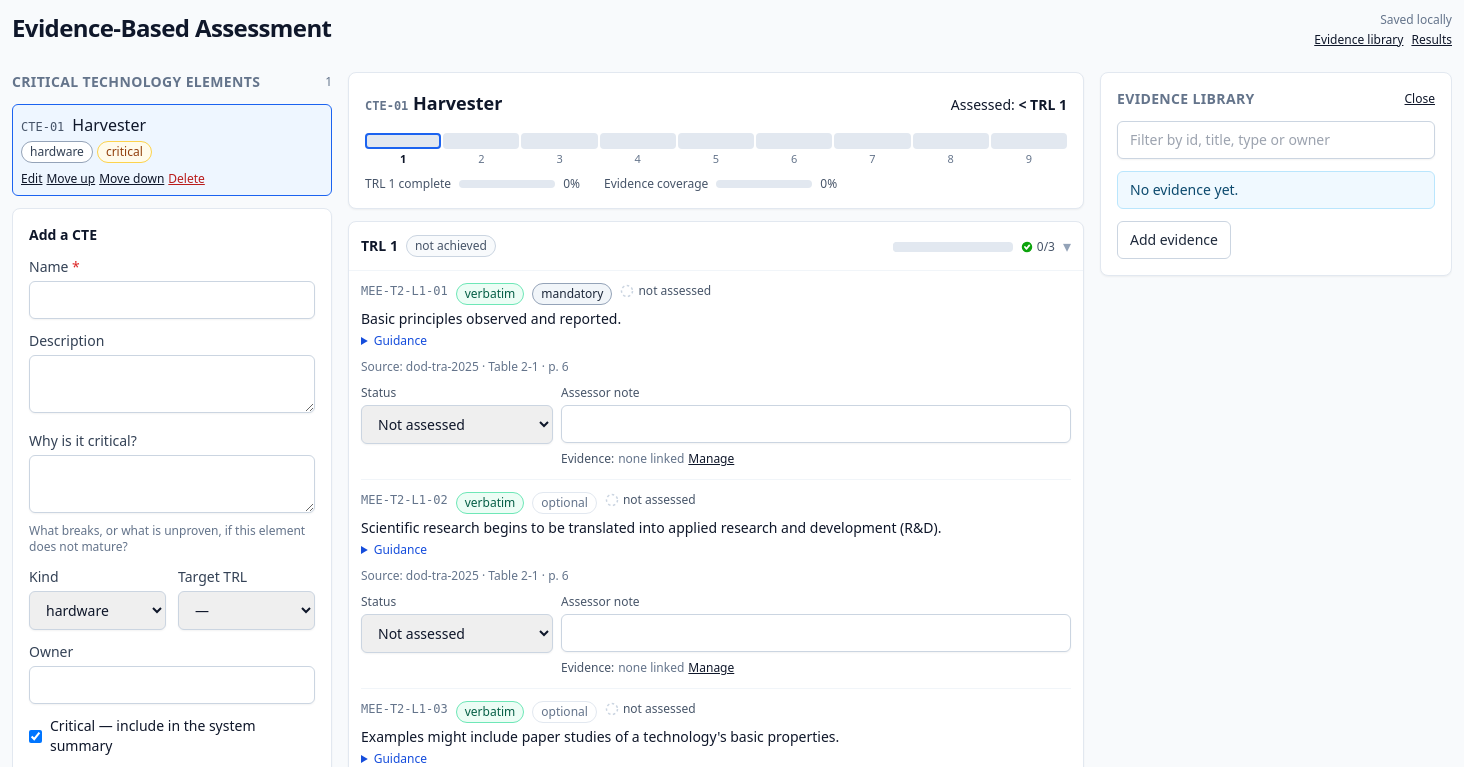
Test case: Tier 2 — criteria › requires a justification for N/A before it counts
Select "N/A" in the dropdown named "Status for MEE-T2-L1-01" at (457, 424), box [361, 405, 553, 444]
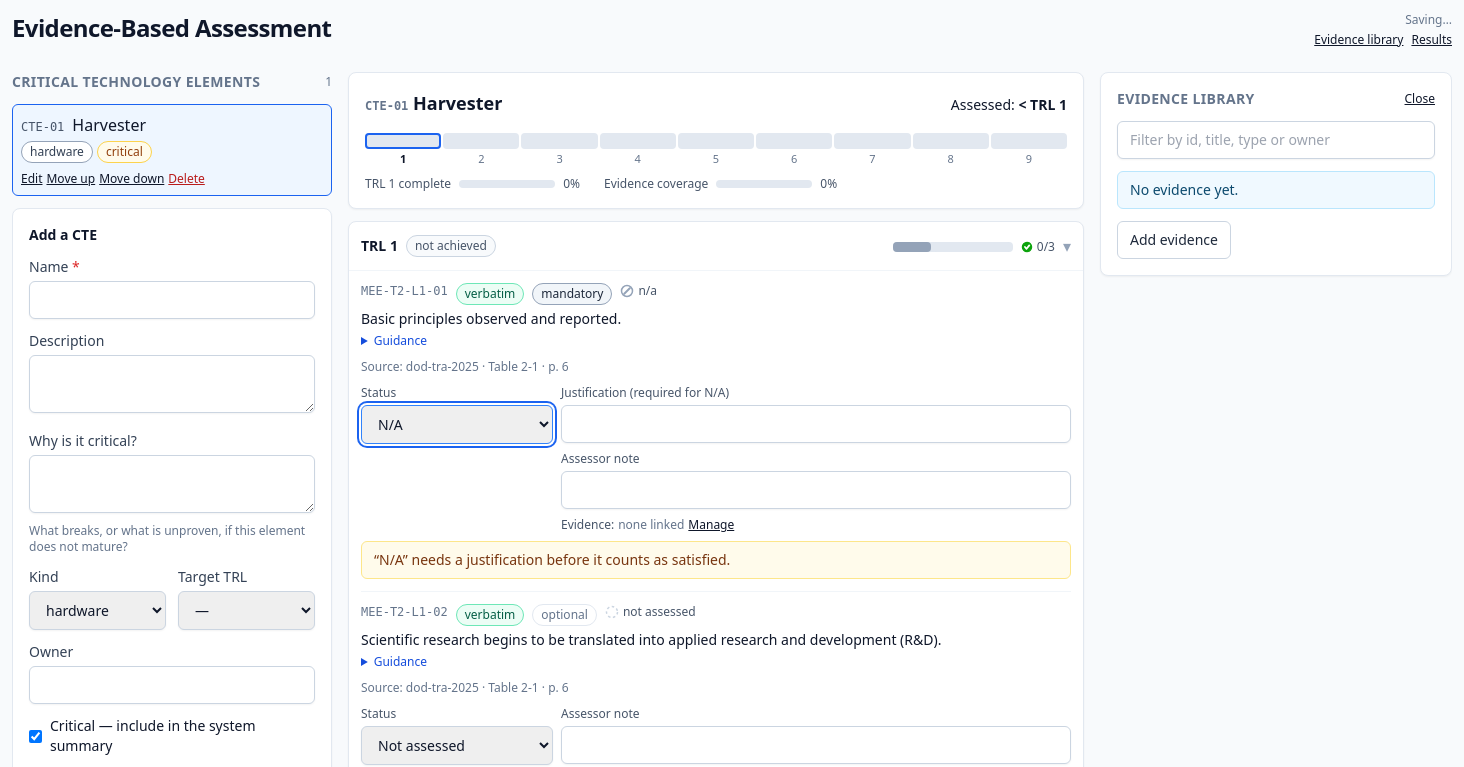
Check: the text "“N/A” needs a justification before it counts as satisfied." is shown, box [374, 550, 730, 569]
Type "Not applicable: …" into the field named "Justification for MEE-T2-L1-01" at (816, 424), box [561, 405, 1071, 443]
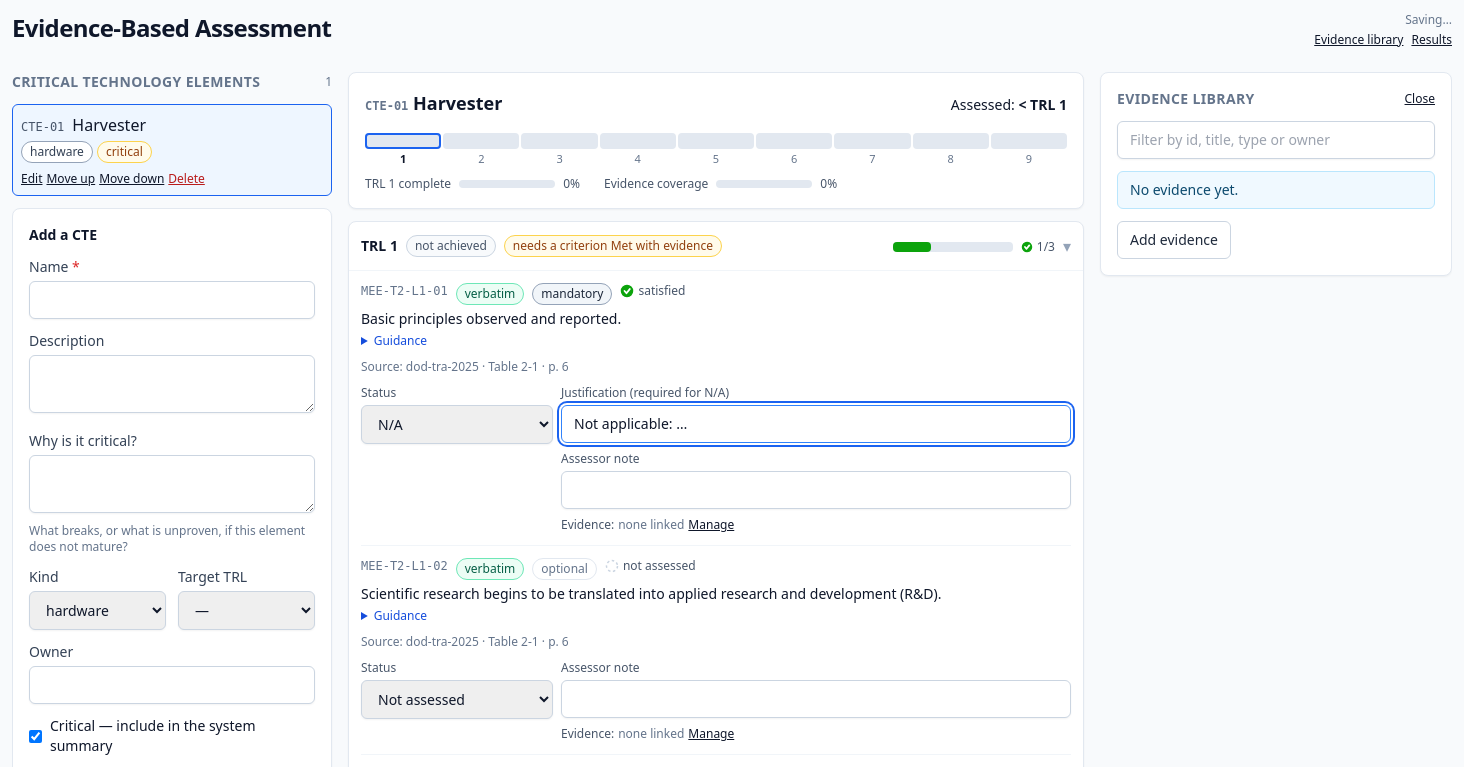
Check: the text "needs a justification" is gone
